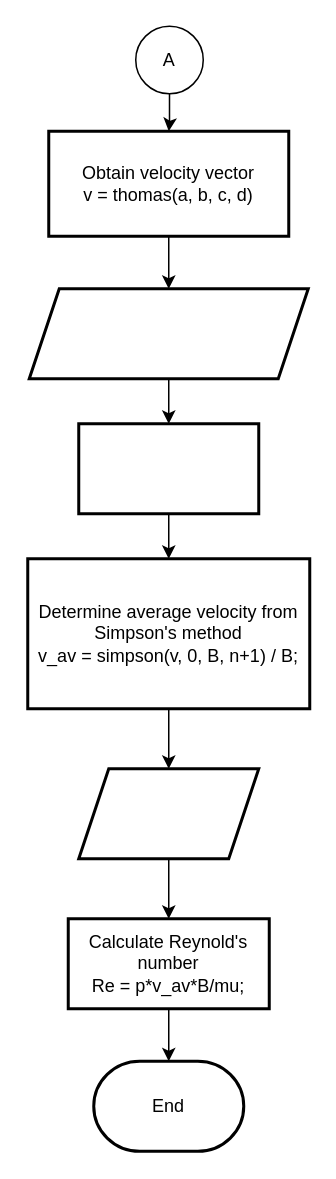
Some shapes in this 336 by 1179 pixel diagram are drawn without their labels. The shapes that lost their labels are listed below. From the top down, each one's box as (x1, y1, x2, y2) in pixels, then its label:
(27, 286, 309, 380): v v = [vo v vb] y = linspace(0, B, n+1)
(76, 422, 260, 514): Plot velocity profile
(76, 766, 260, 860): v_av
